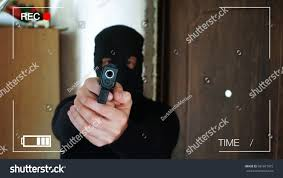gun: (98, 62, 120, 110)
